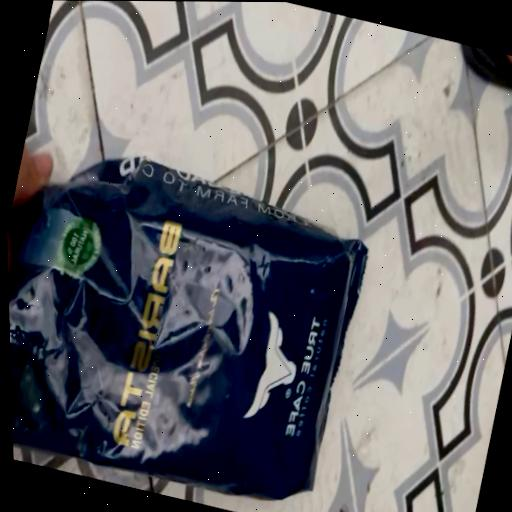cafe_hat: (8, 160, 367, 501)
